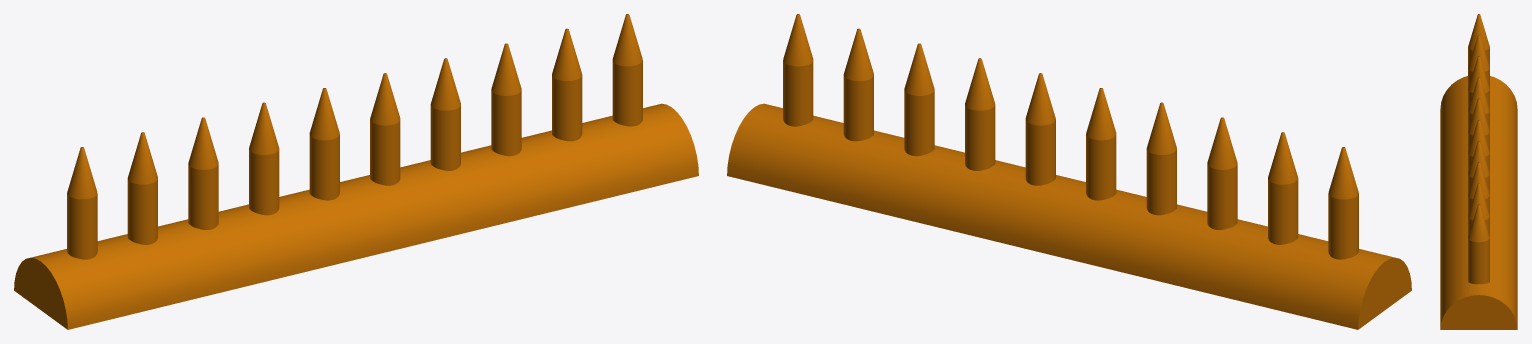
File: Obstacles.fbx
The picture shows the model from 3 angles, left to right: view 1: azimuth 30°, elevation 25°; view 2: azimuth 150°, elevation 25°; view 3: azimuth 270°, elevation 25°; orthographic projection. The views are drawn at different scales.
Visible parts, largest first — view 1: Cylinder, Cylinder.001, Cylinder.002; view 2: Cylinder, Cylinder.001, Cylinder.002; view 3: Cylinder, Cylinder.002, Cylinder.001.
Part boxes in pixels (bbox=[...]): Cylinder: bbox=[14, 103, 698, 329]; Cylinder.001: bbox=[67, 60, 642, 259]; Cylinder.002: bbox=[67, 14, 642, 199]; Cylinder: bbox=[727, 103, 1411, 329]; Cylinder.001: bbox=[783, 60, 1358, 259]; Cylinder.002: bbox=[783, 14, 1358, 199]; Cylinder: bbox=[1440, 76, 1517, 329]; Cylinder.002: bbox=[1468, 14, 1489, 242]; Cylinder.001: bbox=[1468, 47, 1489, 284].
Size of the model in its own units: 398 by 91.8 by 58.78.
